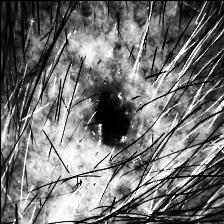Potentially Malignant Skin Tumors: (94, 91, 128, 145)
